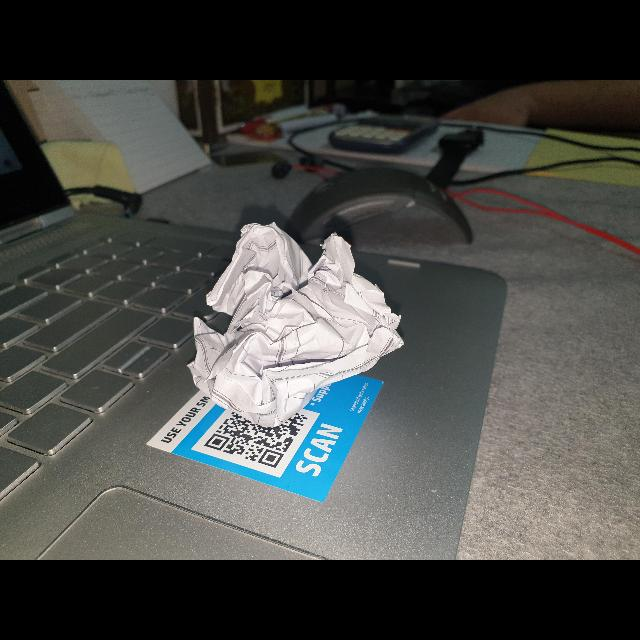scrap_paper: (180, 214, 420, 432)
